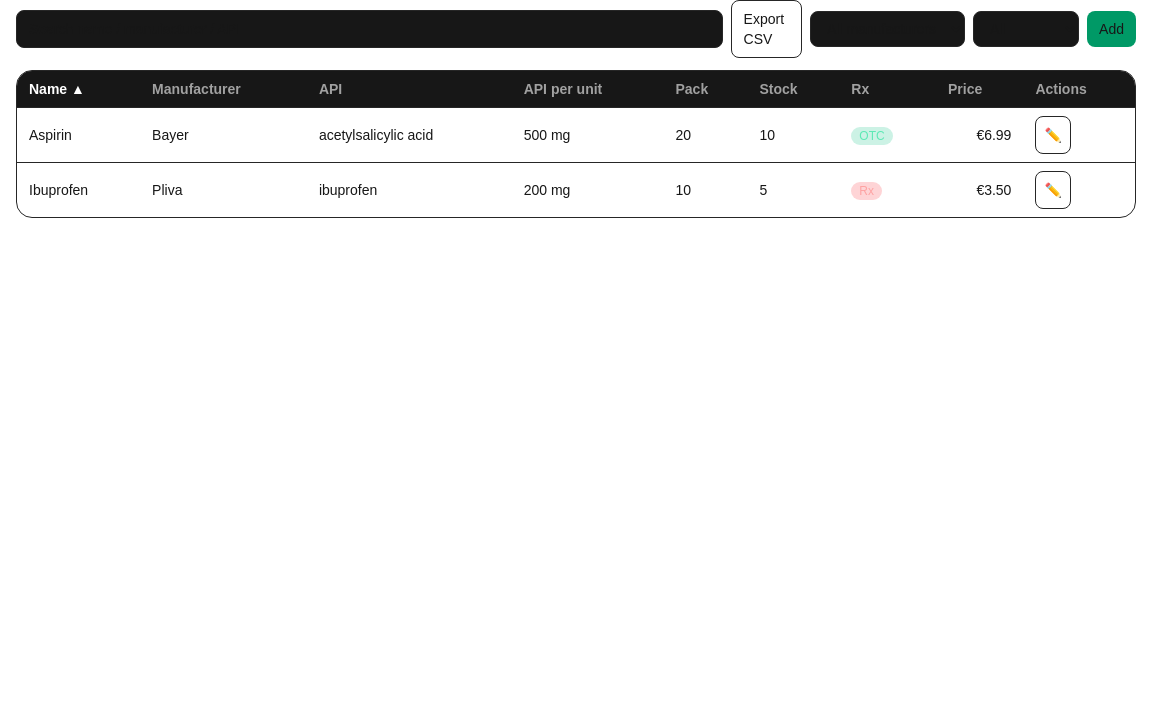
Test: DrugsTable › opens DrugForm modal when clicking "Add"
Click the button "Add". click: (1112, 29)
box: [1087, 11, 1136, 47]
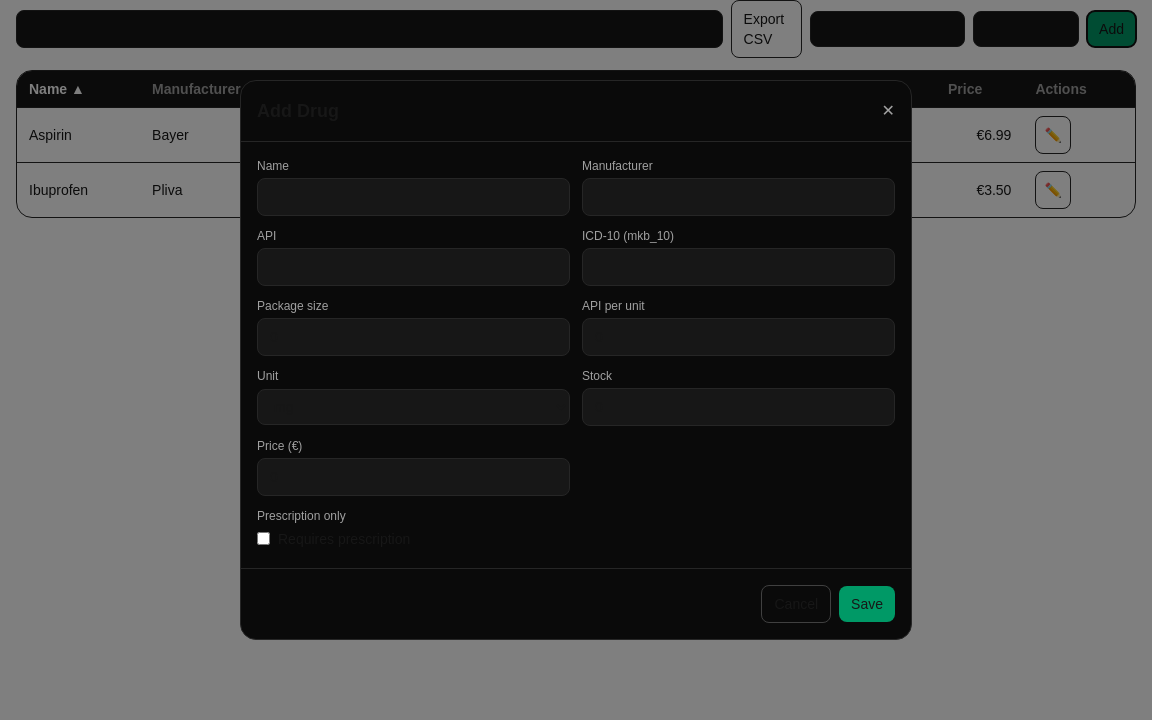
Check: the button "Save" is shown, box [839, 586, 895, 622]
